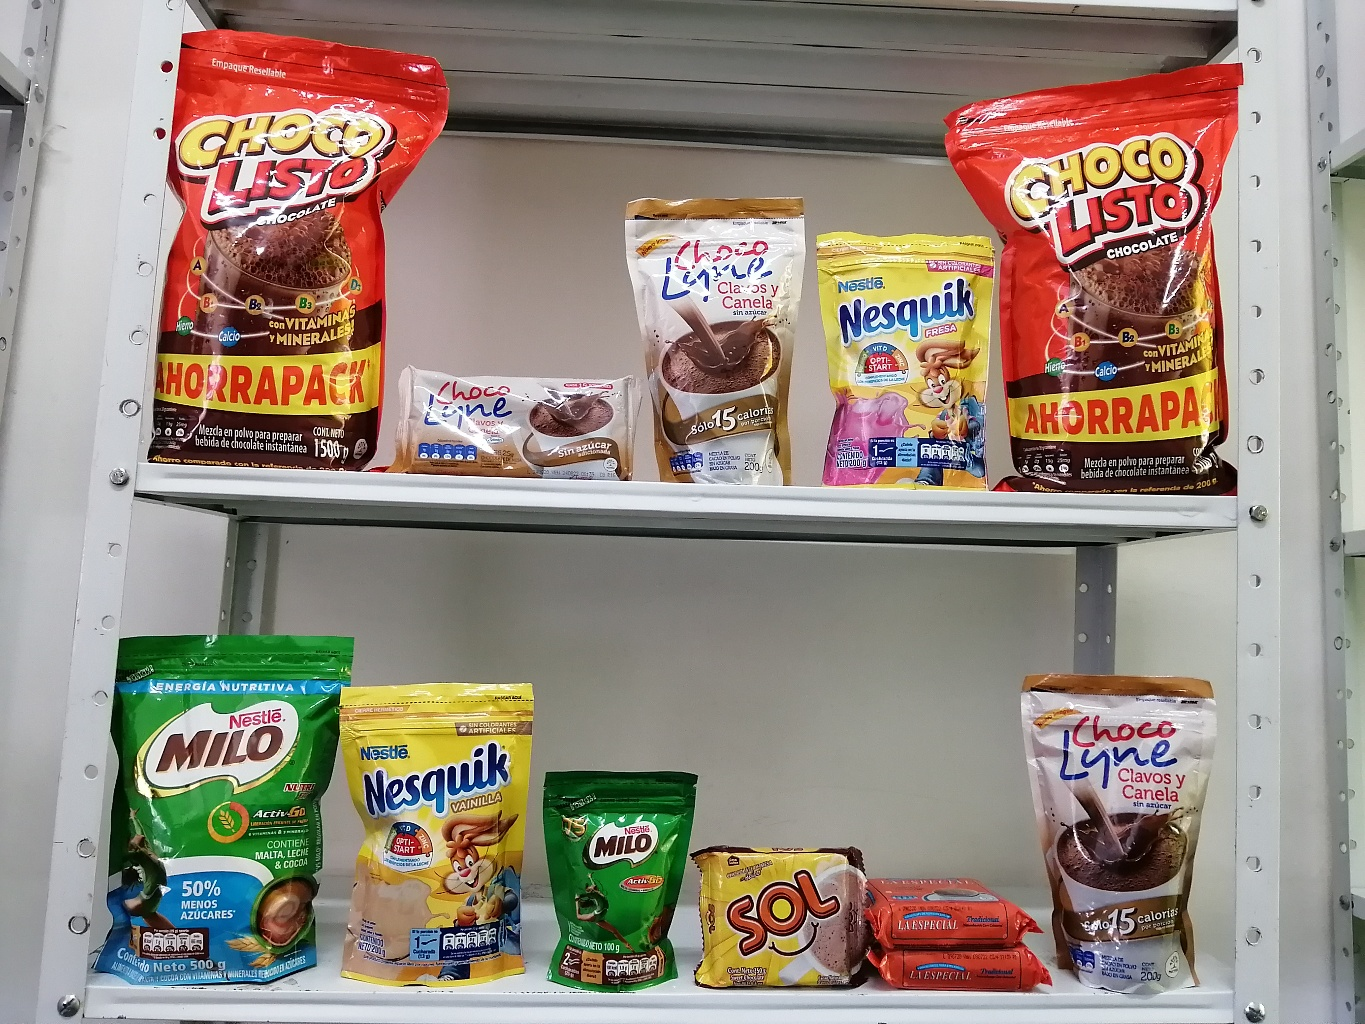COL0170103DYP1,500: (959, 41, 1239, 489)
COL0170203DYP10000: (531, 759, 689, 994)
COL0170205DYP50000: (96, 621, 336, 986)
COL0170305DYP20000: (807, 217, 999, 501)
COL0170306DYP20000: (346, 669, 541, 975)
